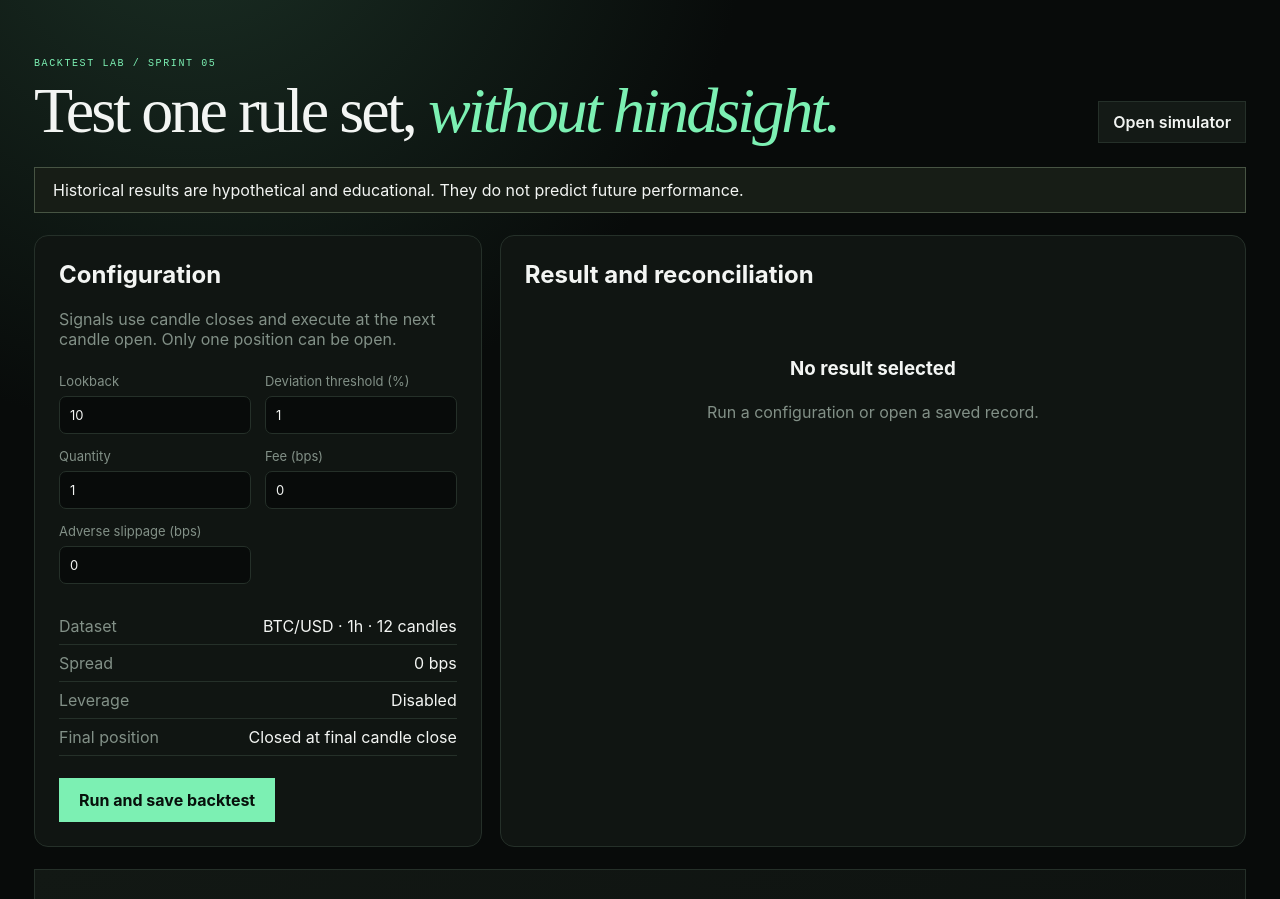
Test case: BacktestLab › validates configuration, runs, and persists an auditable result
Replace the text in the field labelled "Lookback" with "1" at [155, 415], box [59, 396, 251, 434]
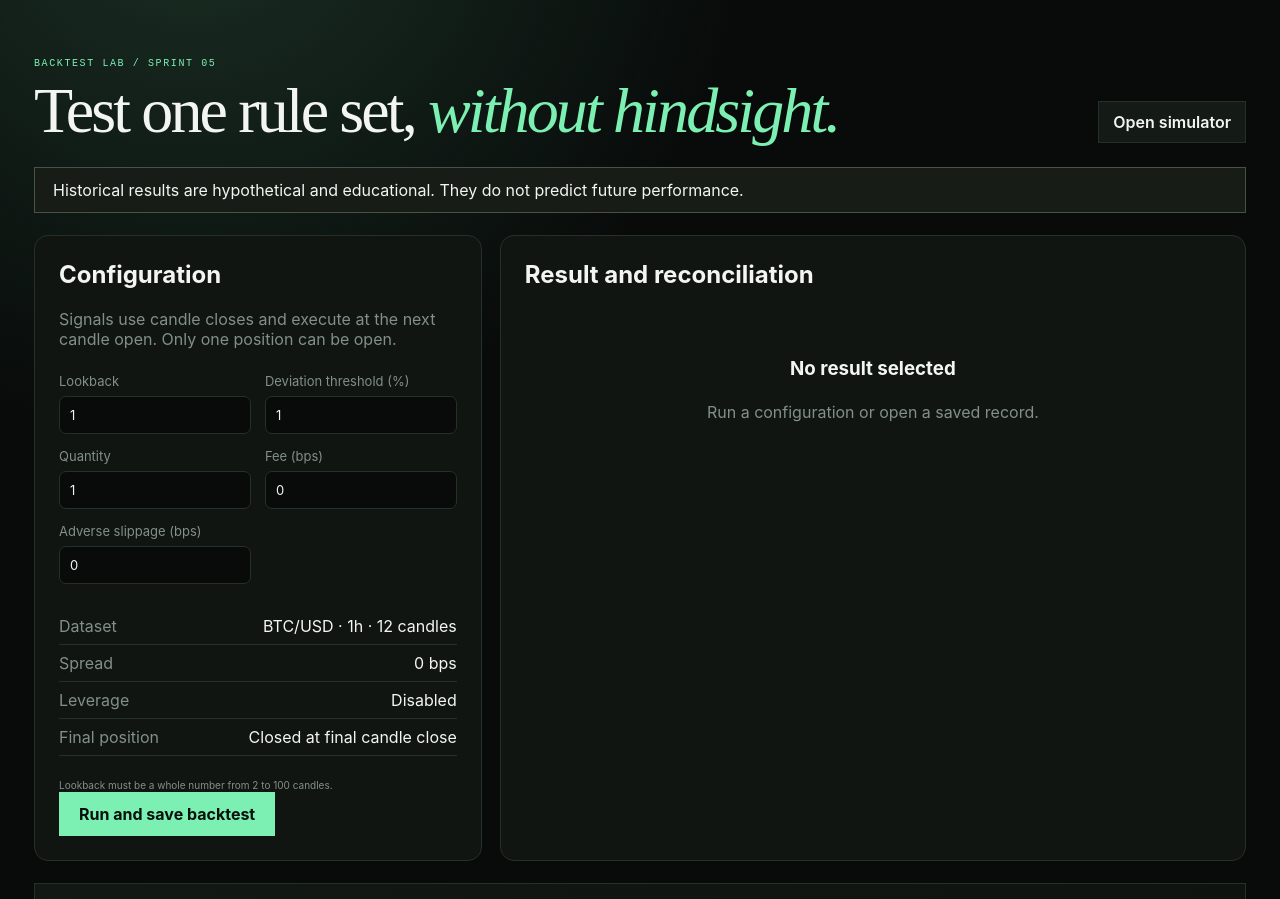
Expected: the button "Run and save backtest" is disabled, [59, 792, 275, 836]
Expected: the message shows "2 to 100", [59, 779, 333, 791]
Replace the text in the field labelled "Lookback" with "2" at [155, 415], box [59, 396, 251, 434]
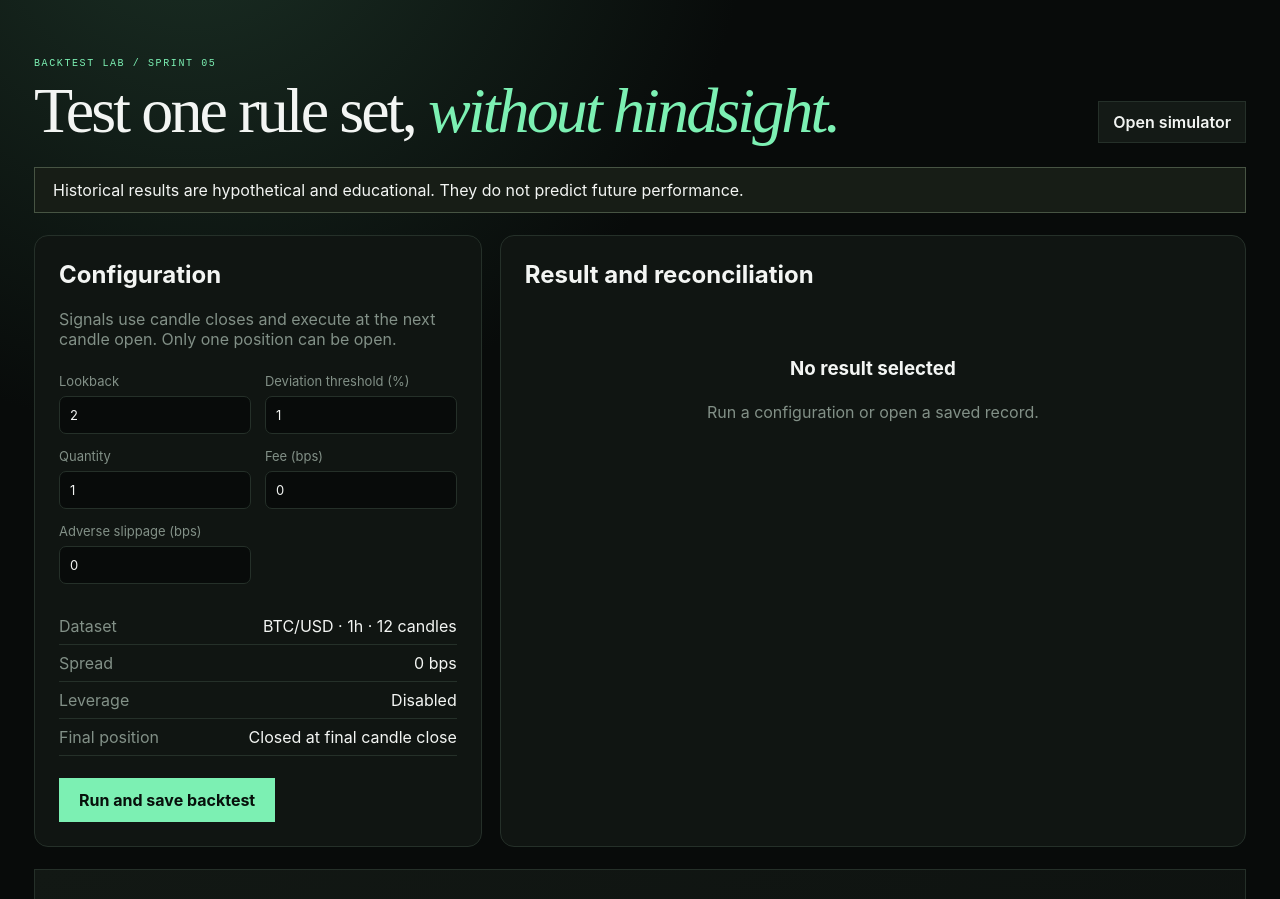
Click the button "Run and save backtest" at [167, 800], box [59, 778, 275, 822]
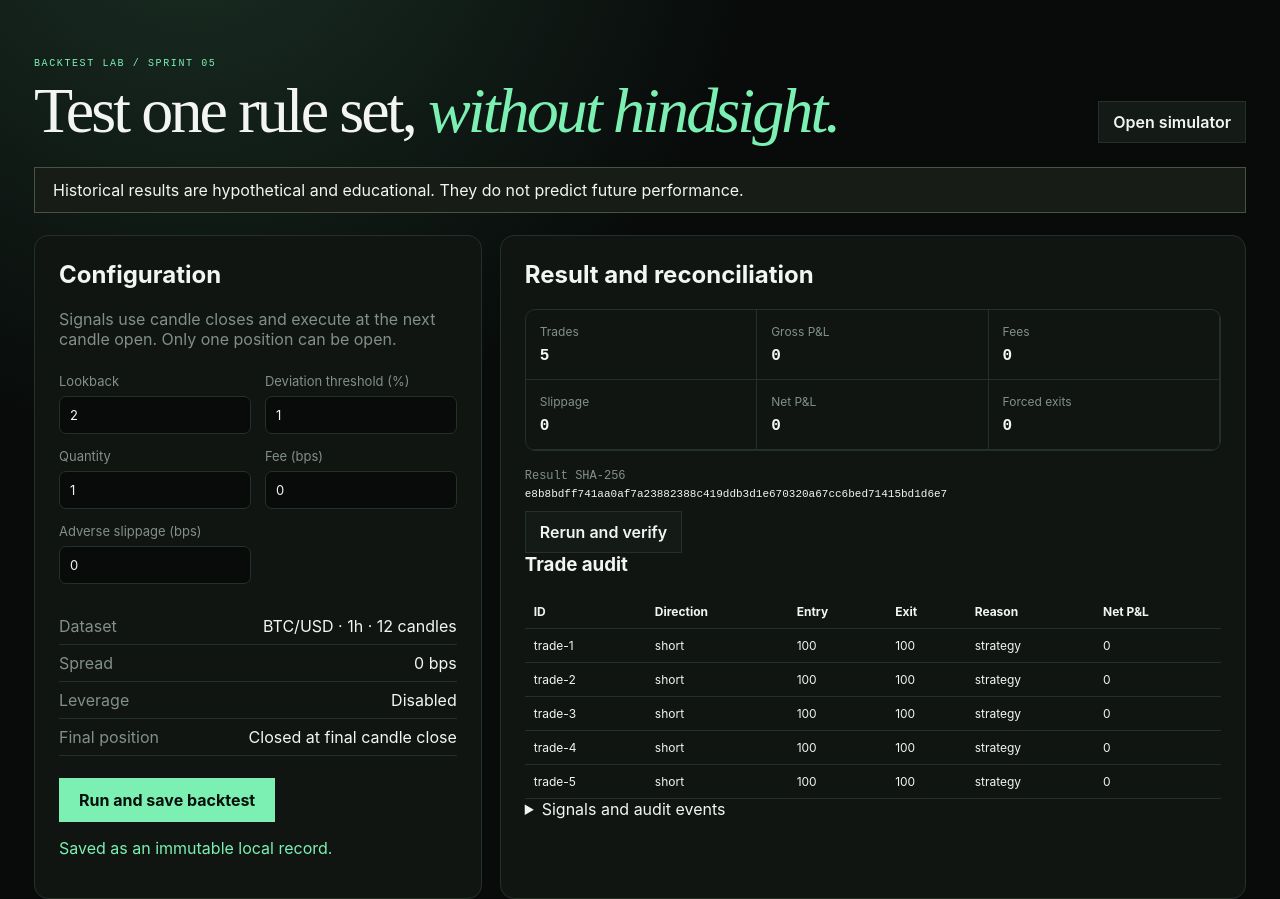
Expected: the text "Result SHA-256" is shown, [525, 469, 626, 483]
Expected: the heading "Trade audit" is shown, [525, 553, 628, 576]
